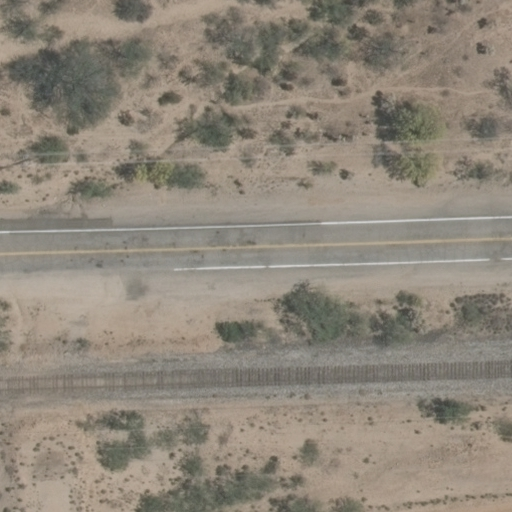DT: (9, 153, 43, 168)
